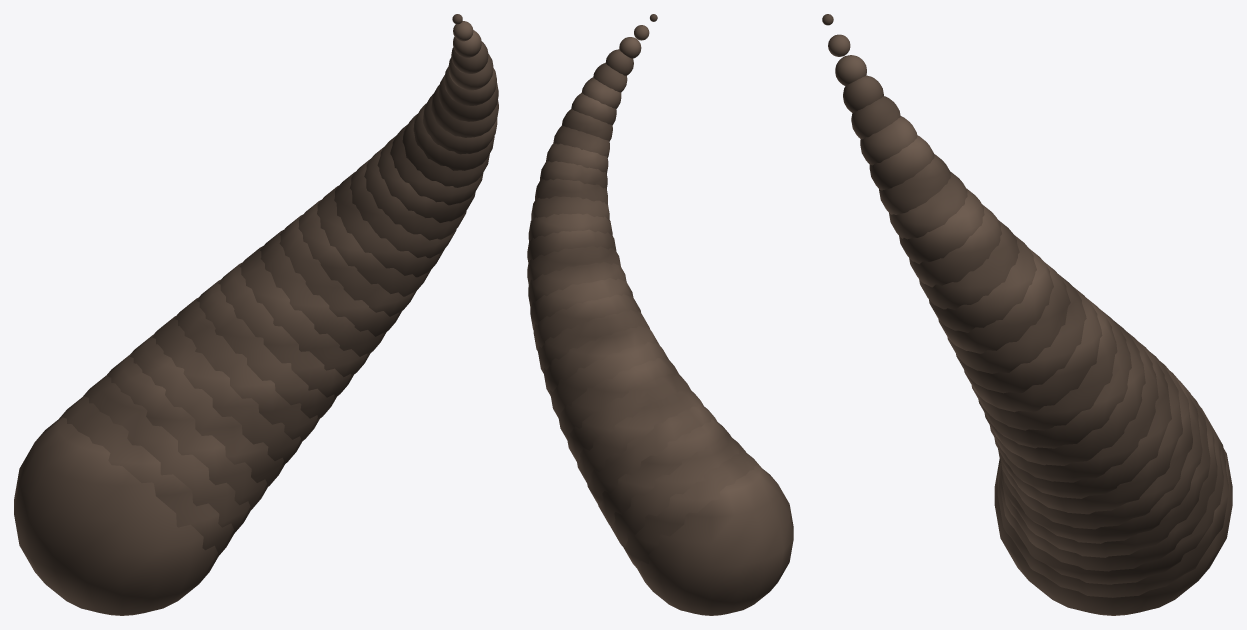
Rendered from horn_demon.glb.
The picture shows the model from 3 angles, left to right: view 1: azimuth 30°, elevation 25°; view 2: azimuth 150°, elevation 25°; view 3: azimuth 270°, elevation 25°; orthographic projection. The views are drawn at different scales.
Visible parts, largest first — view 1: horn_demon; view 2: horn_demon; view 3: horn_demon.
Boxes of the visible parts, bbox=[...] form: horn_demon: bbox=[14, 14, 498, 615]; horn_demon: bbox=[527, 14, 793, 615]; horn_demon: bbox=[822, 14, 1232, 615].
Size of the model in its own units: 0.4895 by 0.7704 by 0.4085.
